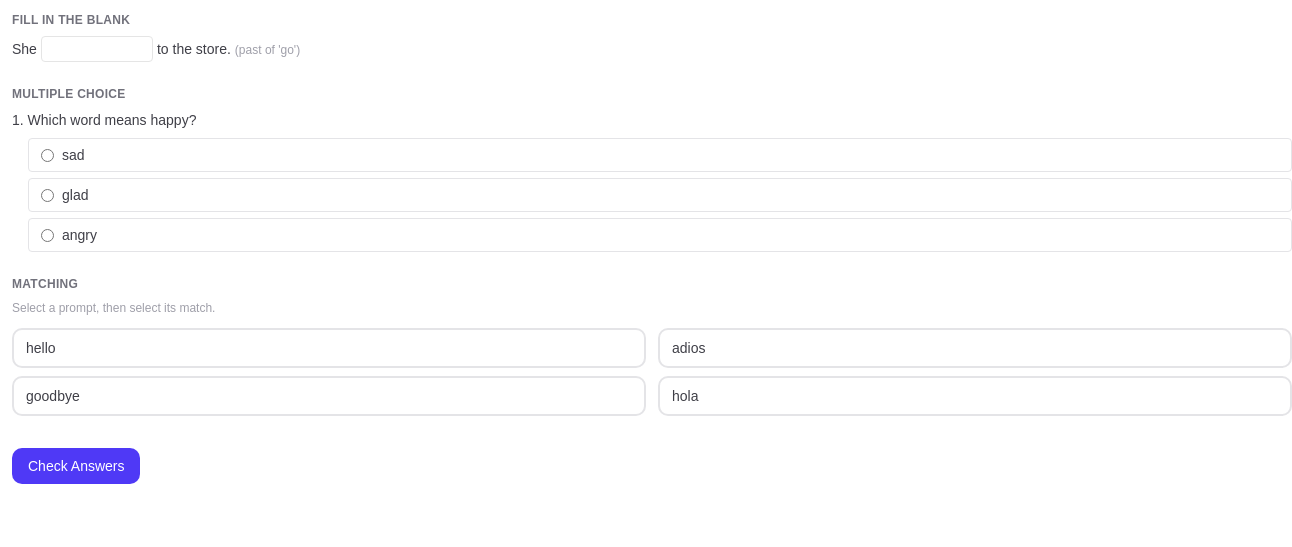
Test: ExercisesRenderer.Student › shows wrong answer feedback after checking
The image size is (1292, 547).
Type "wrong" into the field with test id "fib-input-0" at (97, 49), box left=41, top=36, right=153, bottom=62
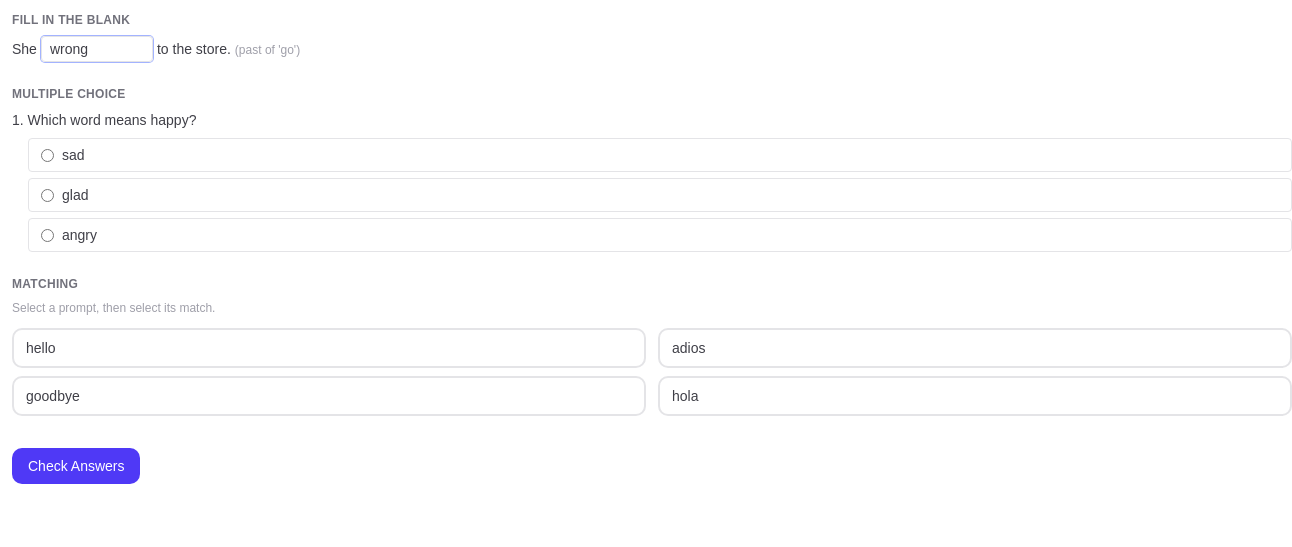
Click the button with test id "check-answers-btn" at (76, 466), box left=12, top=448, right=140, bottom=484
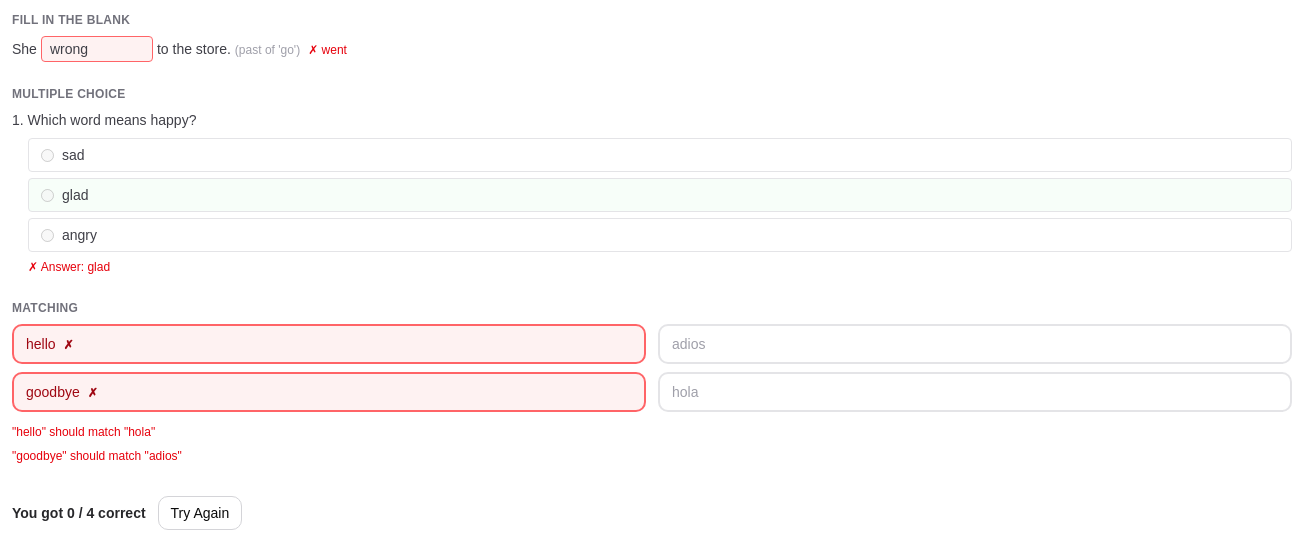
Check: the text with test id "fib-result-0" shows "✗", box left=308, top=43, right=347, bottom=57
Check: the text with test id "score-summary" reads "You got 0 / 4 correct", box left=12, top=503, right=146, bottom=523
